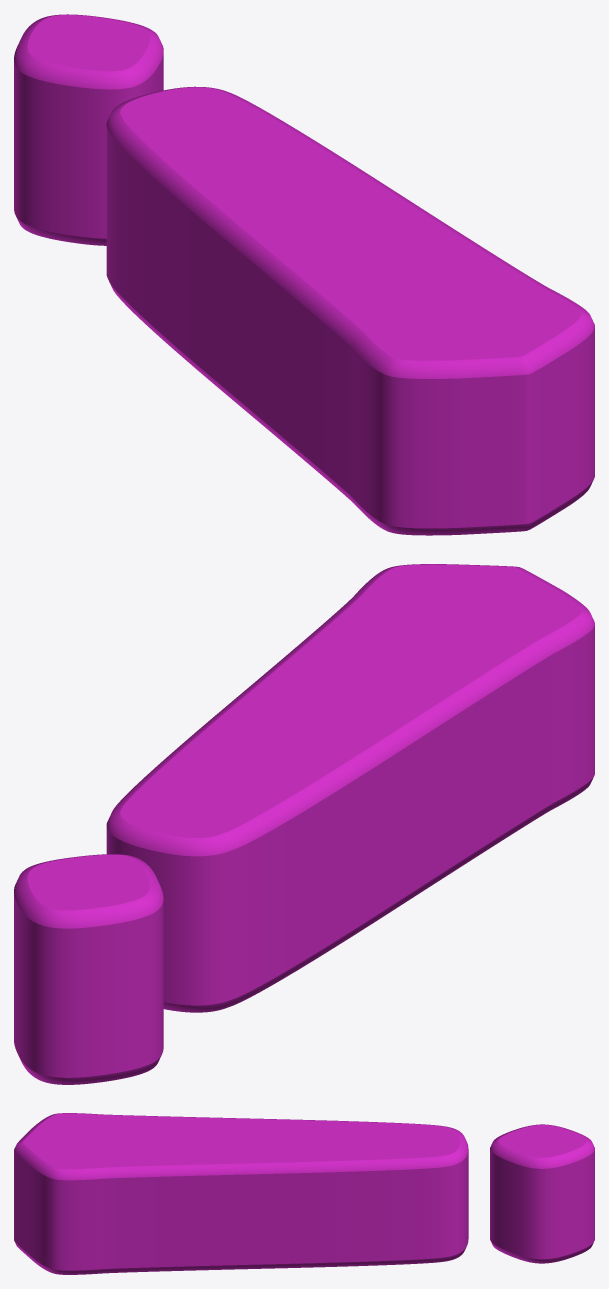
File: ExclamationMark_CoolFont.fbx
3 renders of one model, top to bottom at view 1: azimuth 30°, elevation 25°; view 2: azimuth 150°, elevation 25°; view 3: azimuth 270°, elevation 25°, orthographic. The views are drawn at different scales.
Visible parts, largest first — view 1: ExclamationMark; view 2: ExclamationMark; view 3: ExclamationMark.
Part boxes in pixels (bbox=[...]): ExclamationMark: bbox=[14, 14, 594, 535]; ExclamationMark: bbox=[14, 564, 594, 1084]; ExclamationMark: bbox=[14, 1113, 594, 1274].
Size of the model in its own units: 0.1793 by 0.14 by 0.699.
